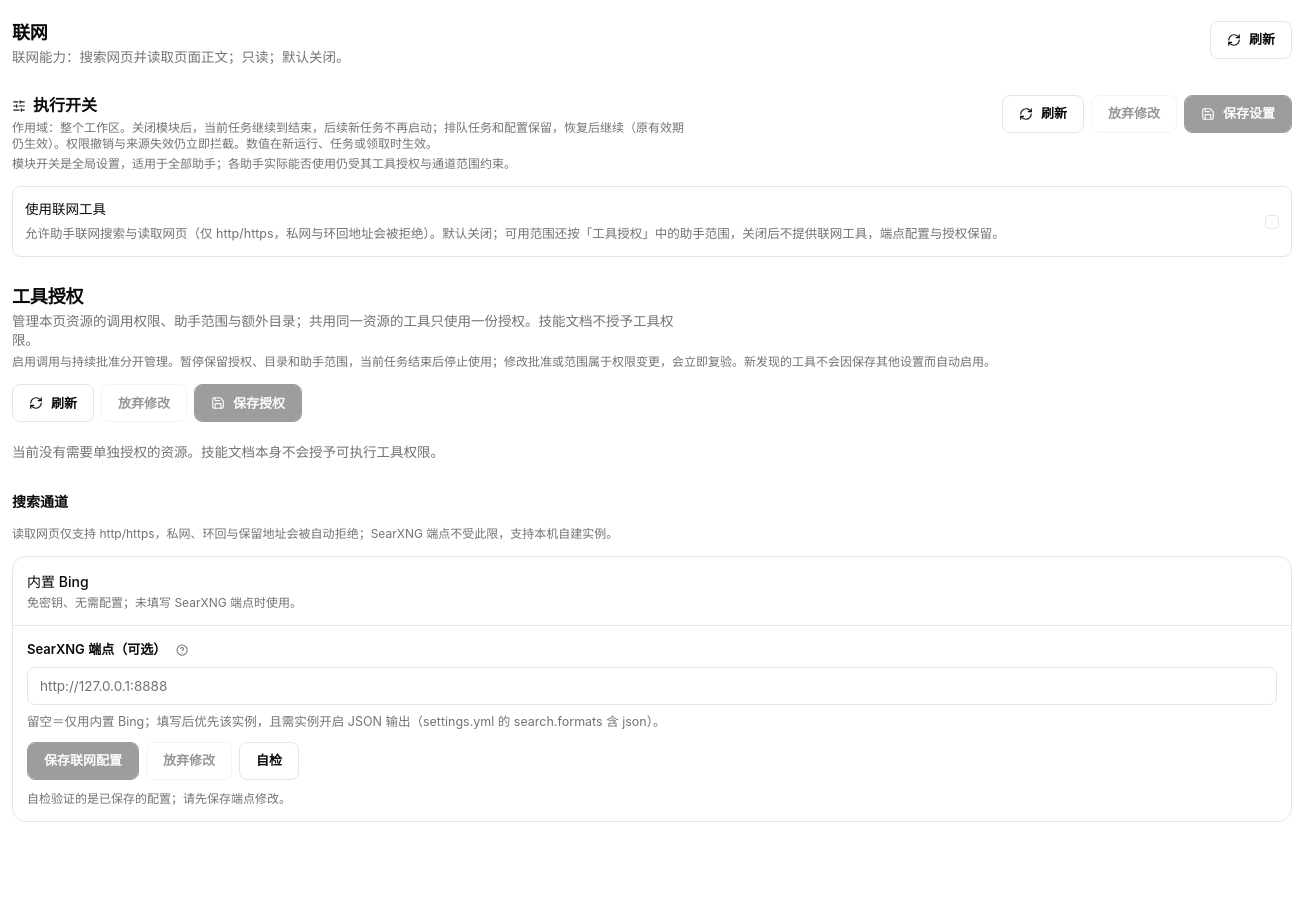
Test: web access panel › saves the trimmed draft with the loaded revision and adopts the saved baseline
Type " http://127.0.0.1:9999 " into the field labelled "SearXNG 端点（可选）" at (652, 686), box [27, 666, 1277, 704]
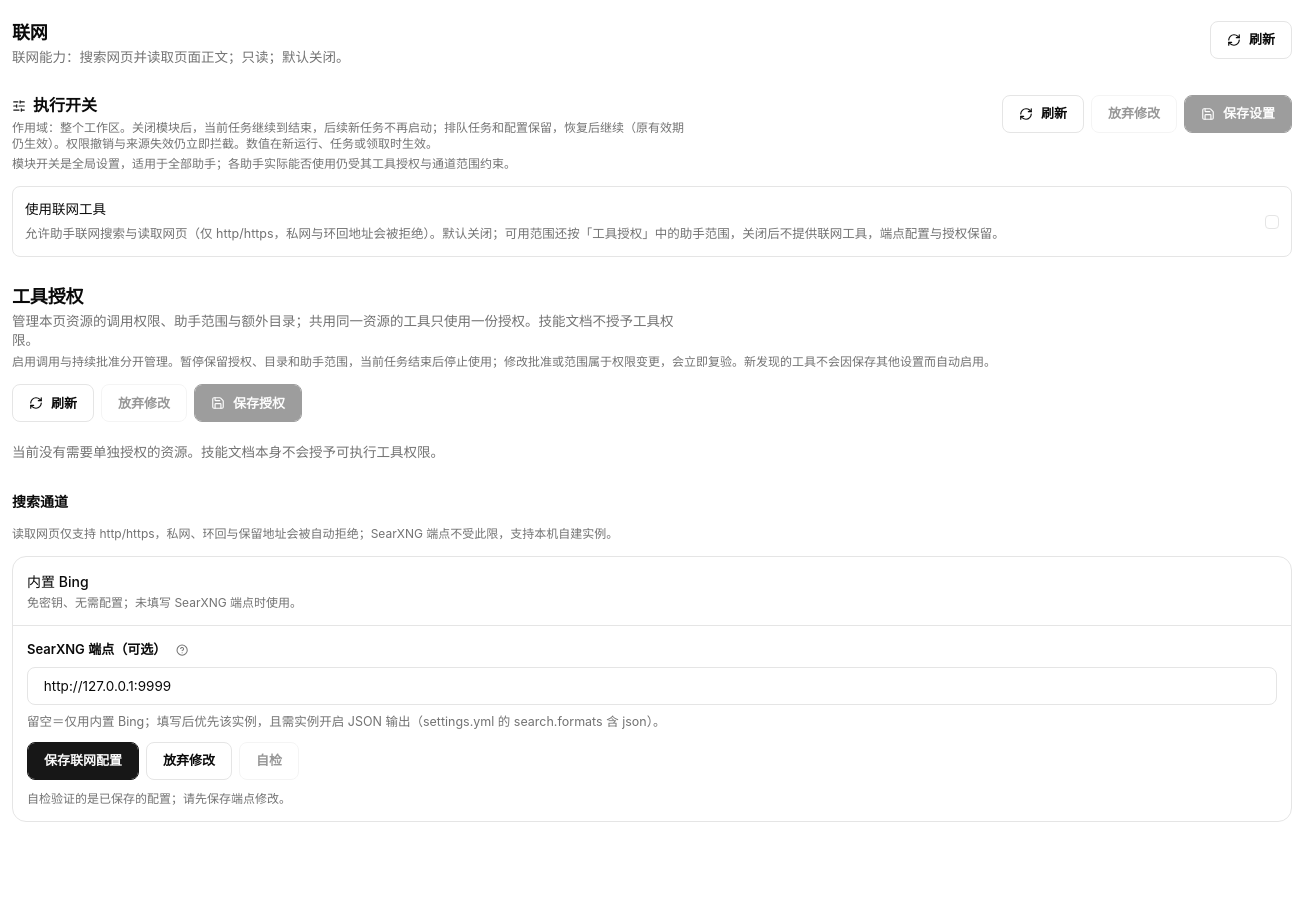
Click the button "保存联网配置" at (83, 761), box [27, 742, 139, 780]
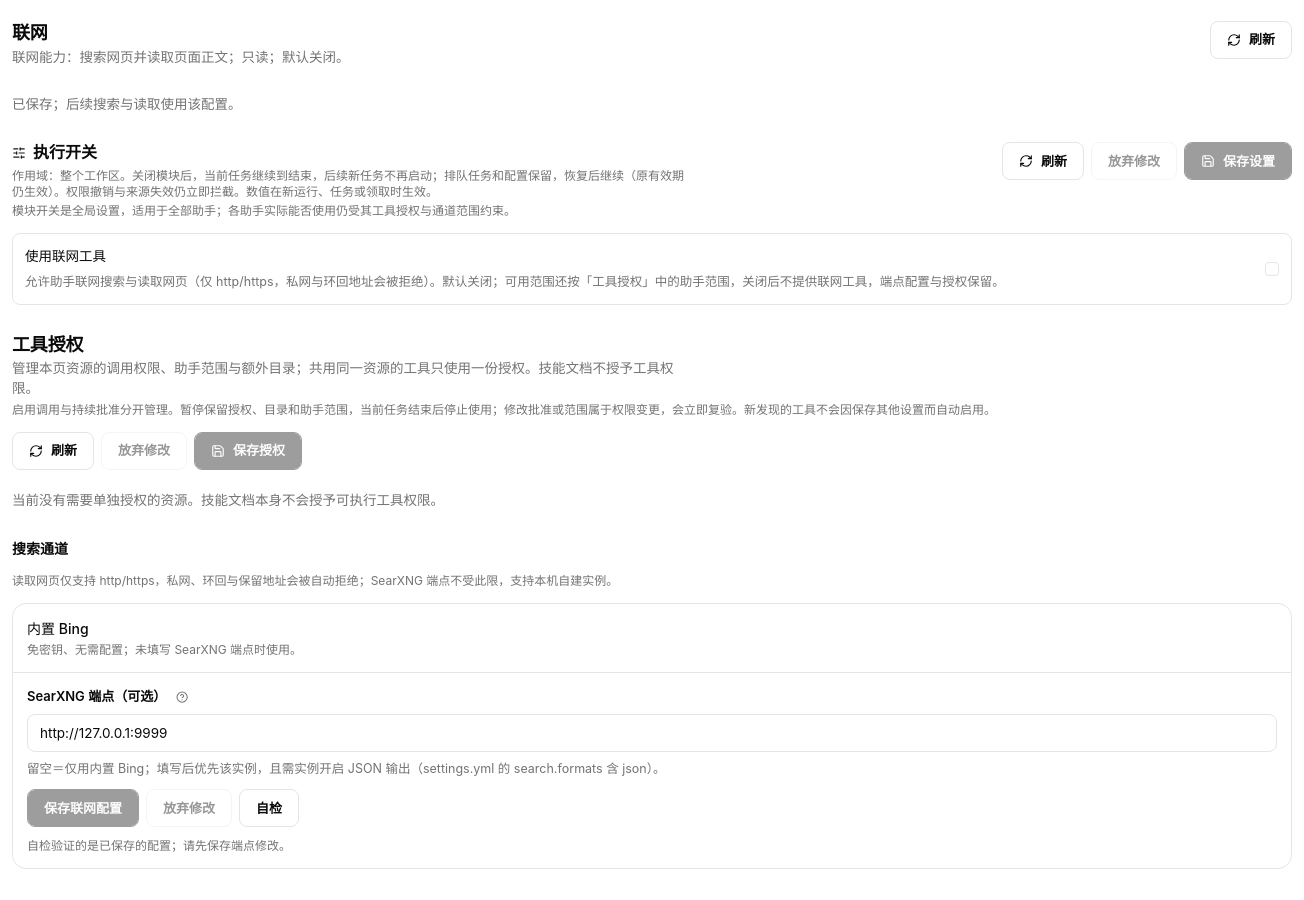
Expected: the message shows "已保存", [12, 96, 242, 112]
Expected: the button "保存联网配置" is disabled, [27, 789, 139, 827]
